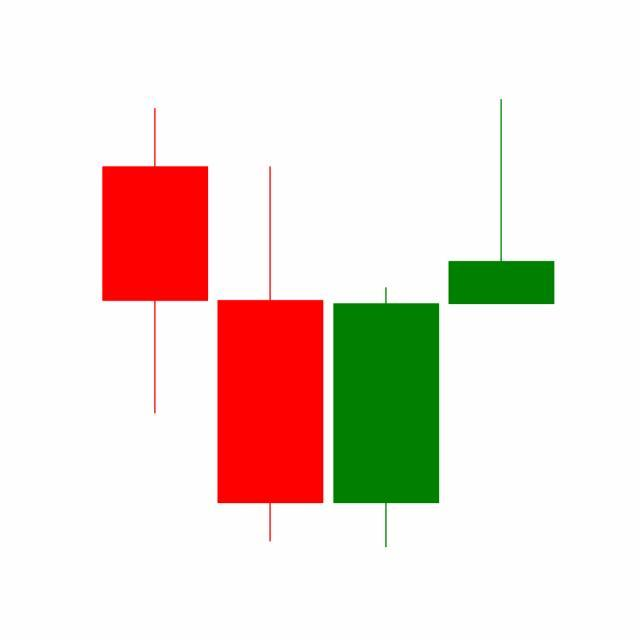Gravestone Doji: (444, 98, 560, 308)
